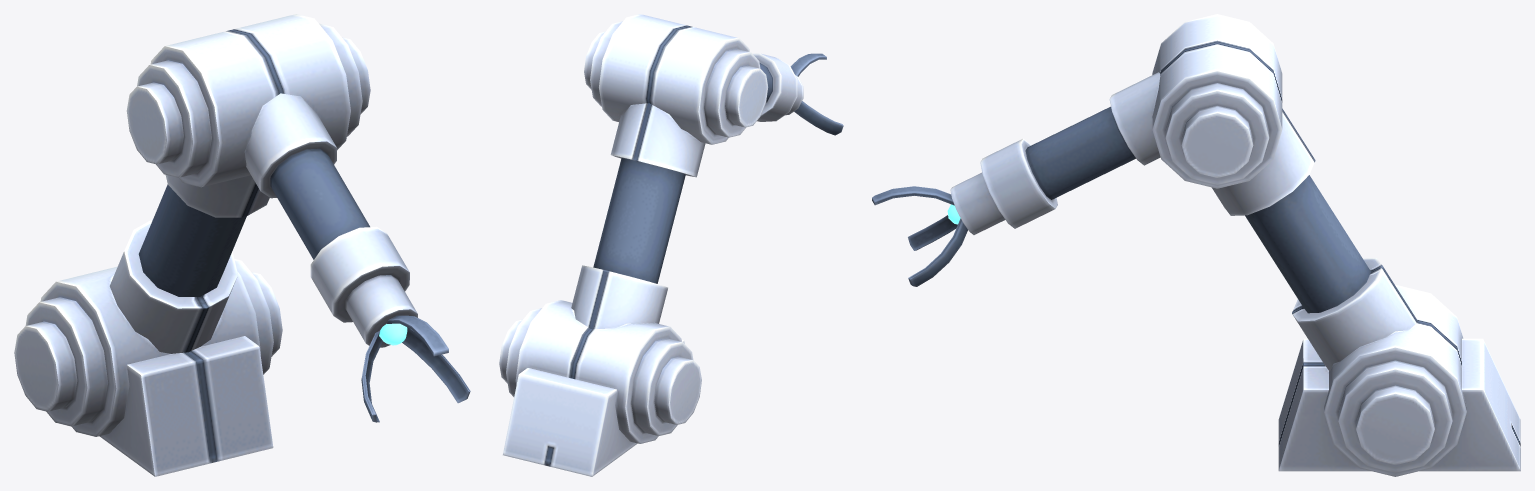
Rendered from obj_claw02.gltf.
3 renders of one model, left to right at view 1: azimuth 30°, elevation 25°; view 2: azimuth 150°, elevation 25°; view 3: azimuth 270°, elevation 25°, orthographic. The views are drawn at different scales.
Visible parts, largest first — view 1: obj_claw02; view 2: obj_claw02; view 3: obj_claw02.
Boxes of the visible parts, x1,y1,x2,y2 form: obj_claw02: [14, 14, 470, 476]; obj_claw02: [499, 14, 843, 476]; obj_claw02: [872, 14, 1520, 476].
Size of what is drawn, in the model's own units: 1.08 by 2.08 by 3.03.
Materials: 1 (1 with a texture image).
